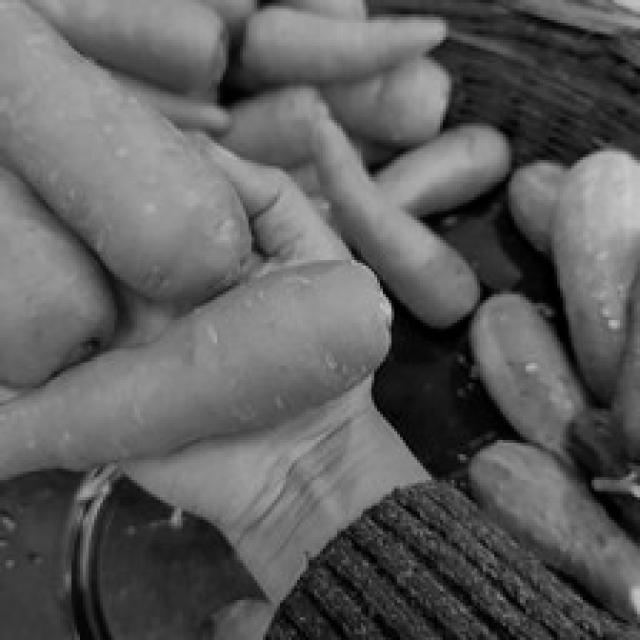Fresh_Carrot: (0, 250, 390, 473), (0, 8, 244, 300), (0, 171, 108, 385), (34, 0, 232, 95), (232, 0, 445, 80)
